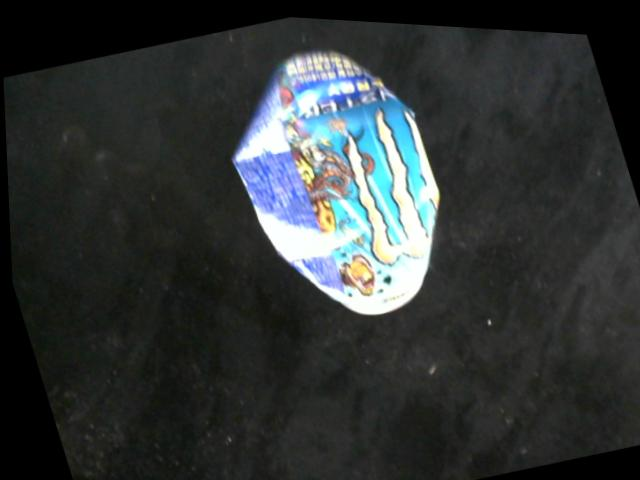can: (231, 42, 447, 318)
